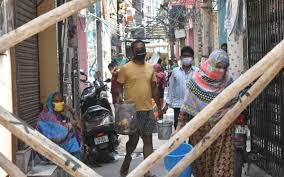mask: (209, 48, 227, 80), (50, 90, 64, 112), (131, 41, 146, 61), (179, 45, 193, 66)
